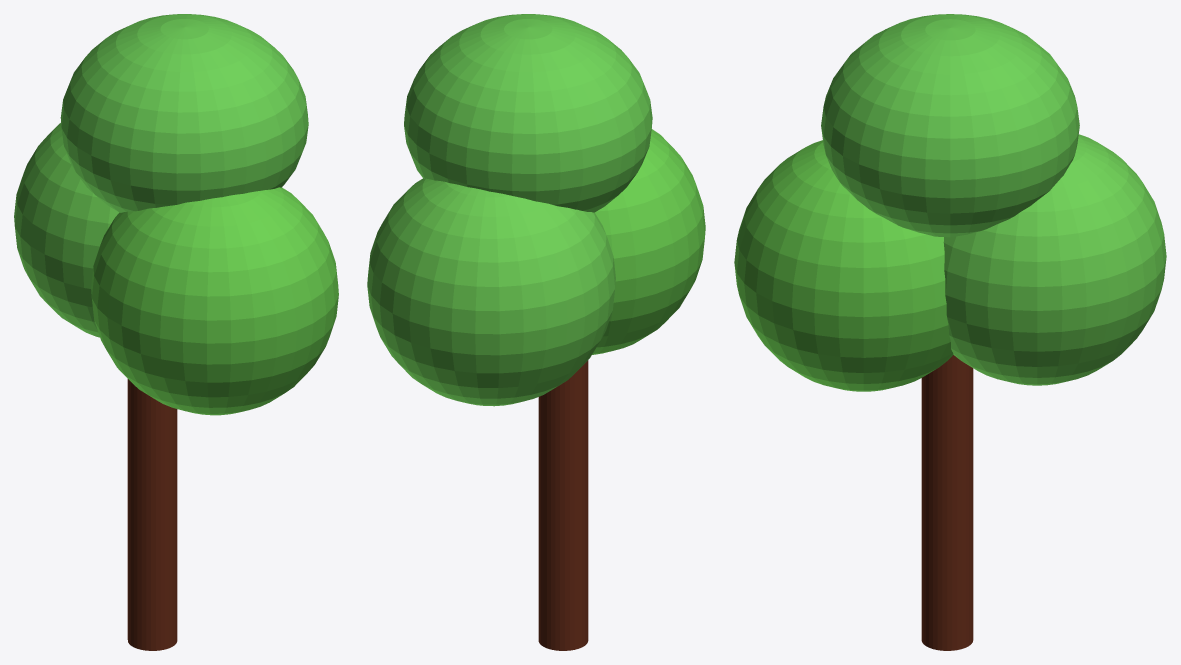
File: Tree1.glb
3 views of the same model, side by side, from view 1: azimuth 30°, elevation 25°; view 2: azimuth 150°, elevation 25°; view 3: azimuth 270°, elevation 25° (orthographic). The views are drawn at different scales.
Parts seen in each view (by area): view 1: Sphere.001, Sphere, Cylinder, Sphere.005; view 2: Sphere.005, Sphere, Sphere.001, Cylinder; view 3: Sphere, Sphere.005, Sphere.001, Cylinder.
Boxes of the visible parts, left/top/right/bottom form: Sphere.001: left=91, top=187, right=338, bottom=415; Sphere: left=60, top=14, right=308, bottom=212; Cylinder: left=127, top=379, right=177, bottom=650; Sphere.005: left=14, top=123, right=119, bottom=337; Sphere.005: left=367, top=178, right=615, bottom=406; Sphere: left=404, top=14, right=652, bottom=212; Sphere.001: left=592, top=129, right=705, bottom=354; Cylinder: left=538, top=360, right=588, bottom=650; Sphere: left=821, top=14, right=1079, bottom=237; Sphere.005: left=943, top=134, right=1166, bottom=385; Sphere.001: left=734, top=140, right=953, bottom=391; Cylinder: left=921, top=355, right=973, bottom=650.
Bounding box in the file's own units: 6.32 × 16.09 × 10.02.
Materials: 4 (4 with a texture image).
